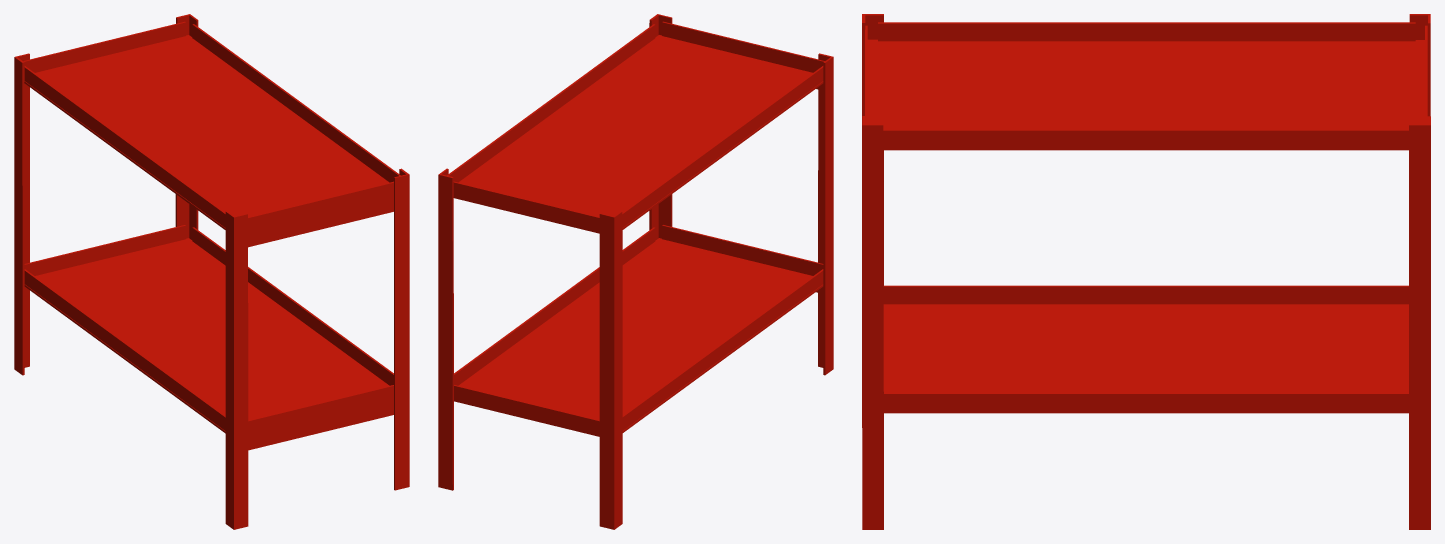
Rendered from UCX_bunk_bed.fbx.
The picture shows the model from 3 angles, left to right: view 1: azimuth 30°, elevation 25°; view 2: azimuth 150°, elevation 25°; view 3: azimuth 270°, elevation 25°; orthographic projection. The views are drawn at different scales.
Visible parts, largest first — view 1: UCX_bunk_bed; view 2: UCX_bunk_bed; view 3: UCX_bunk_bed.
Part boxes in pixels (bbox=[...]): UCX_bunk_bed: bbox=[14, 14, 409, 529]; UCX_bunk_bed: bbox=[438, 14, 833, 529]; UCX_bunk_bed: bbox=[862, 14, 1430, 529].
Bounding box in the file's own units: 0.9268 × 1.57 × 2.
